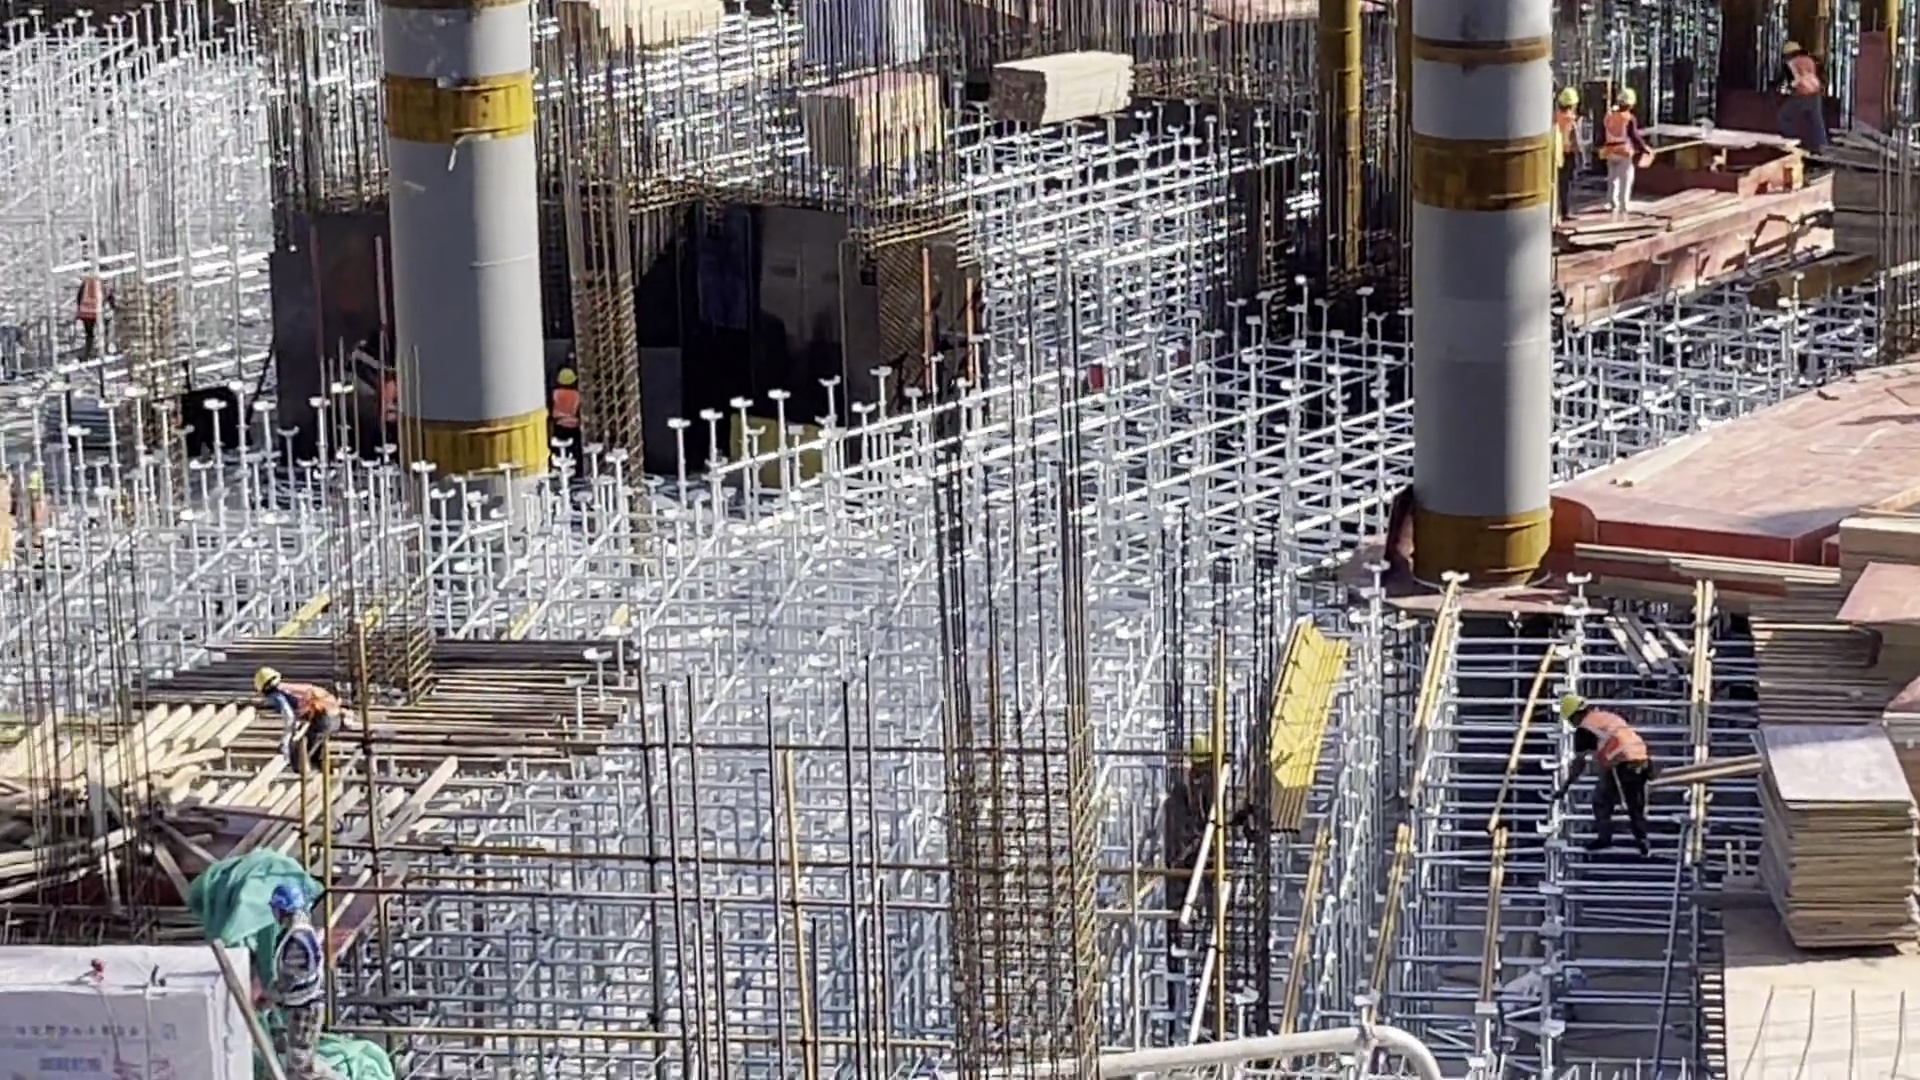helmet: (1555, 687, 1583, 718), (250, 667, 280, 692), (551, 367, 578, 389), (1619, 88, 1644, 111), (1557, 87, 1576, 112)
person: (1552, 674, 1651, 847), (261, 880, 335, 1080), (249, 666, 342, 777), (1599, 87, 1647, 213), (1552, 83, 1586, 216), (1787, 40, 1826, 149), (74, 262, 108, 362), (545, 367, 583, 443)
vest: (1583, 713, 1647, 773), (279, 683, 340, 724), (1604, 111, 1637, 164), (1554, 115, 1579, 180), (1790, 53, 1818, 99), (548, 389, 574, 424), (80, 278, 100, 322)
